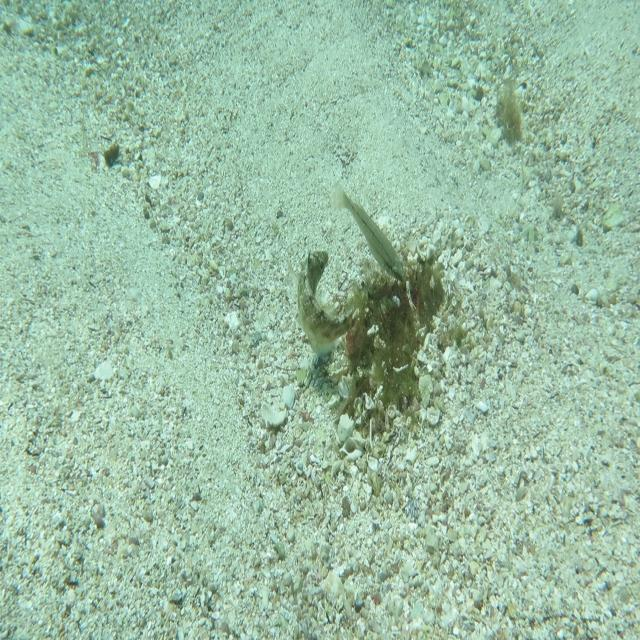BEND: (294, 246, 361, 356)
female: (328, 173, 410, 285)
nest: (324, 228, 454, 432)
